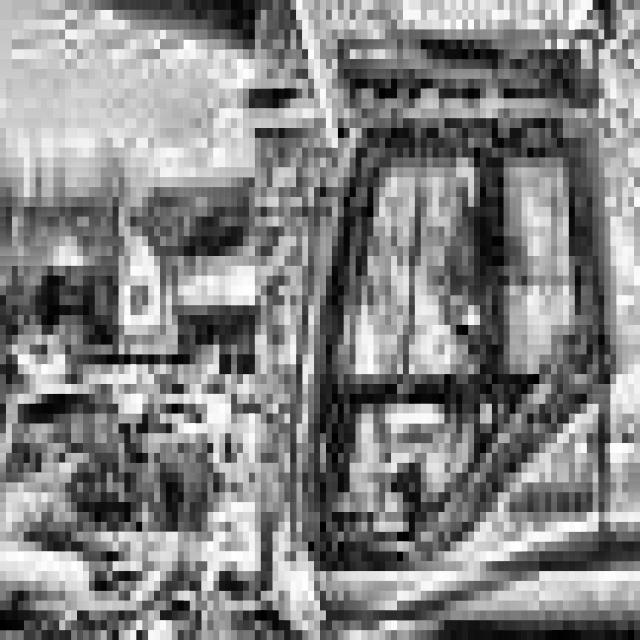excavator: (195, 49, 640, 640)
